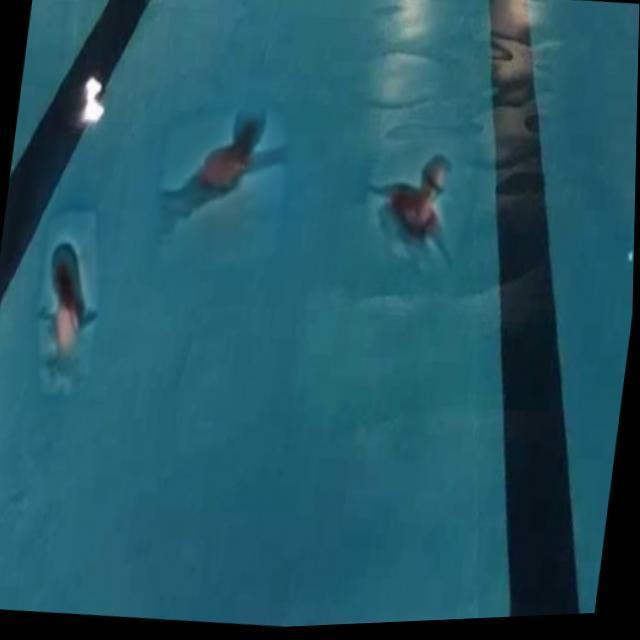swimming: (152, 109, 298, 249), (357, 133, 475, 275), (25, 230, 130, 376)
